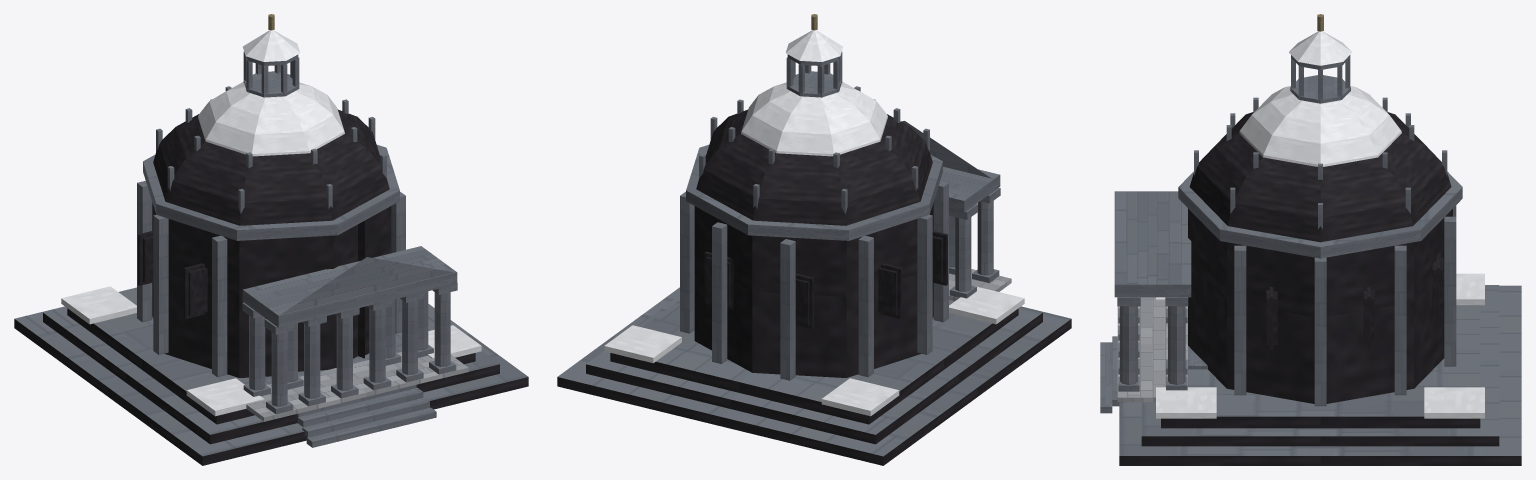
File: ae_snow_dome_temple_lod2.glb
3 views of the same model, side by side, from view 1: azimuth 30°, elevation 25°; view 2: azimuth 150°, elevation 25°; view 3: azimuth 270°, elevation 25° (orthographic). The views are drawn at different scales.
Parts seen in each view (by area): view 1: ae_snow_dome_temple_lod2; view 2: ae_snow_dome_temple_lod2; view 3: ae_snow_dome_temple_lod2.
Part boxes in pixels (x1,y1,x2,y2): ae_snow_dome_temple_lod2: (14, 14, 528, 465); ae_snow_dome_temple_lod2: (557, 14, 1071, 465); ae_snow_dome_temple_lod2: (1100, 14, 1521, 465).
Bounding box in the file's own units: 9.64 × 9.66 × 10.1.
1 material, 1 textured.
